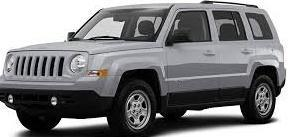SUV: (1, 3, 287, 136)
